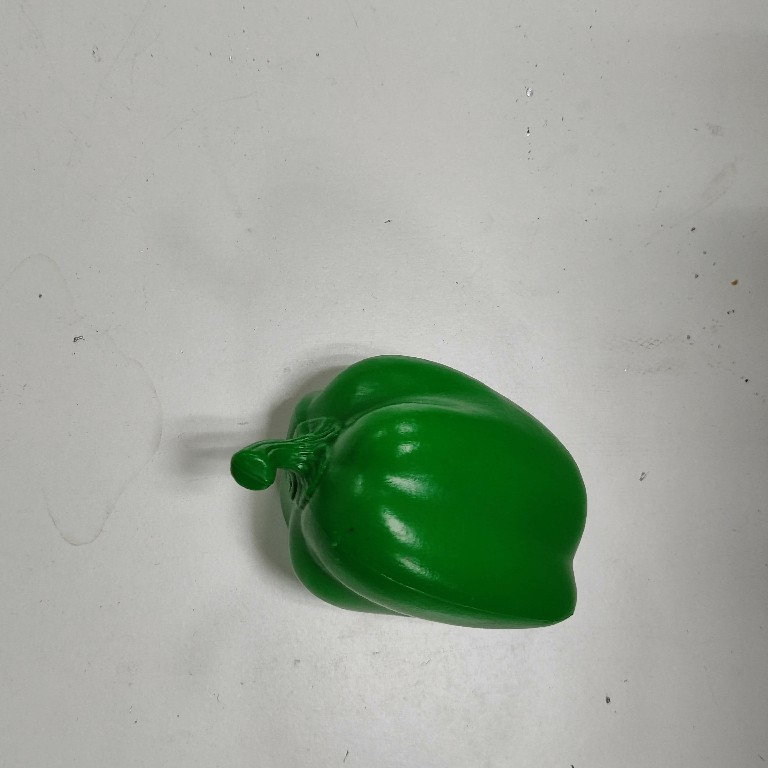fruit_pepper: (225, 352, 592, 635)
